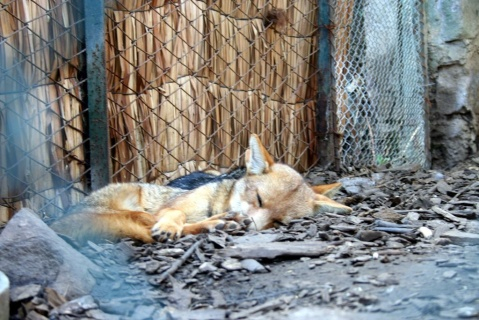Fox: (47, 131, 352, 247)
